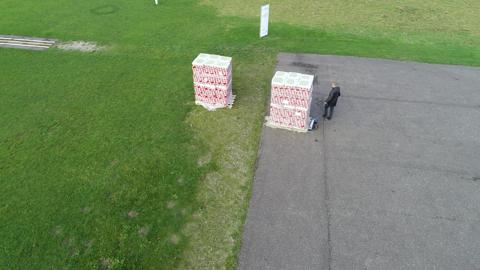RockwoolPallet: (190, 52, 236, 107)
